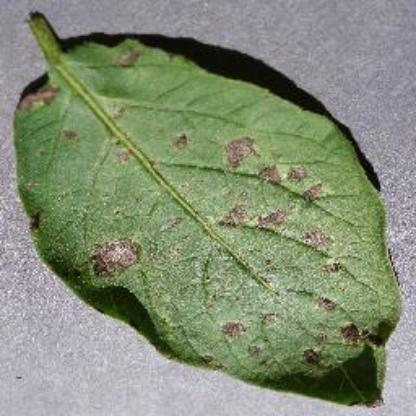Early-Blight: (8, 0, 416, 416)
